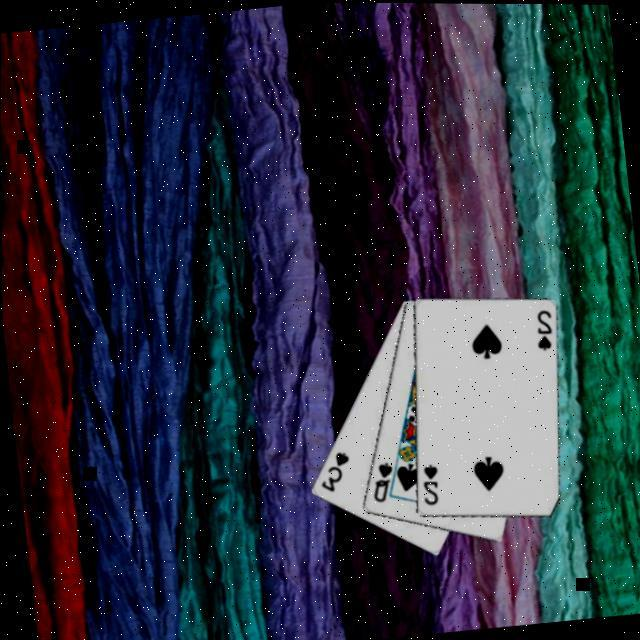2S: (414, 460, 441, 508), (528, 306, 555, 354)
3S: (312, 448, 352, 496)
QS: (363, 458, 396, 506)
